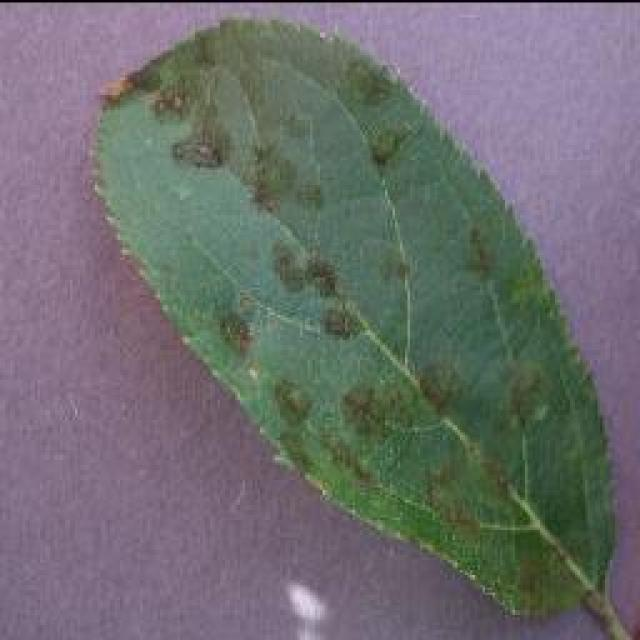apple scab disease: (88, 15, 620, 620)
